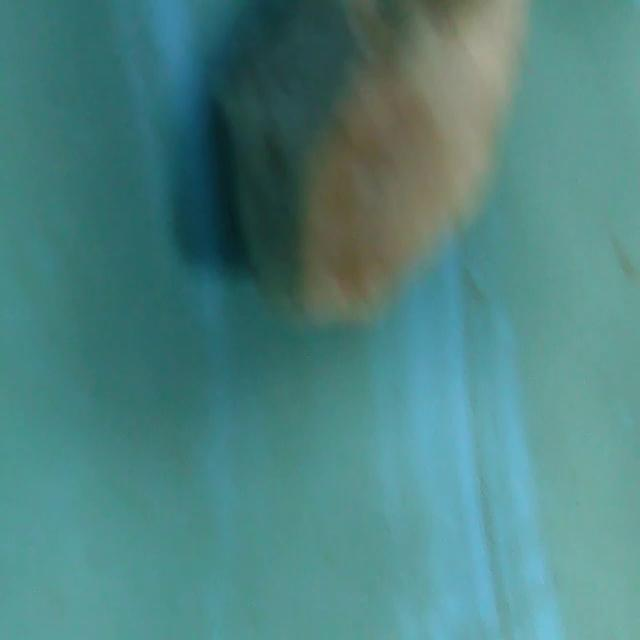rock: (206, 0, 544, 332)
